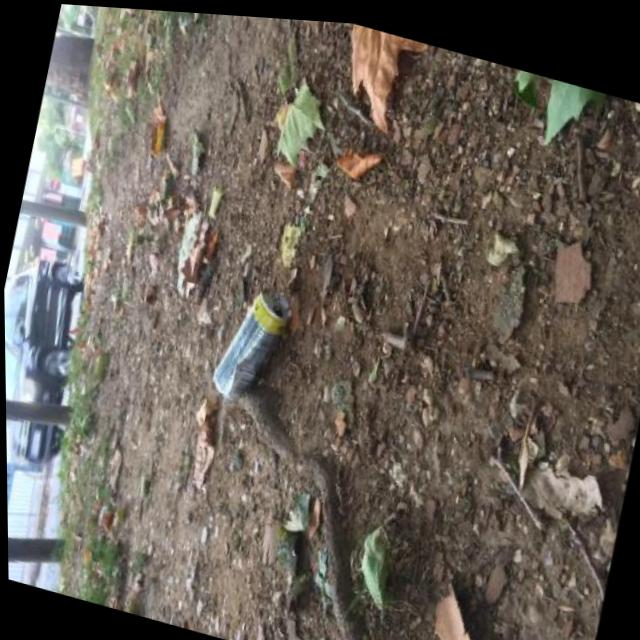metal: (207, 276, 299, 415)
